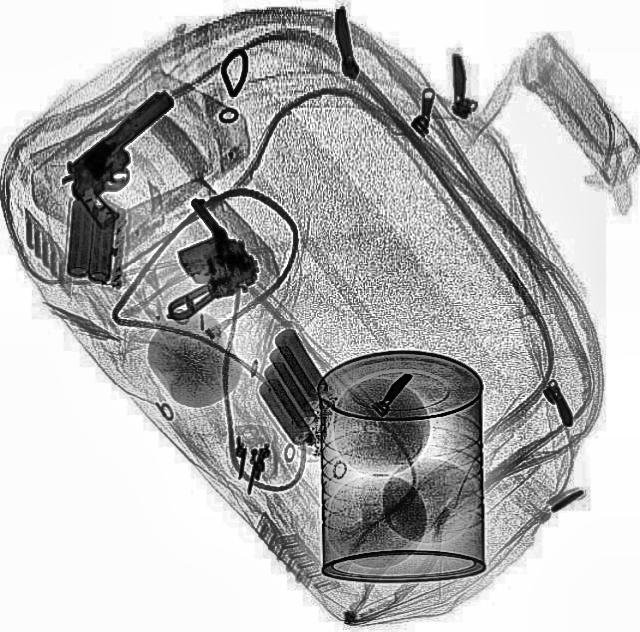Gun: (43, 78, 199, 229), (135, 190, 265, 320)
